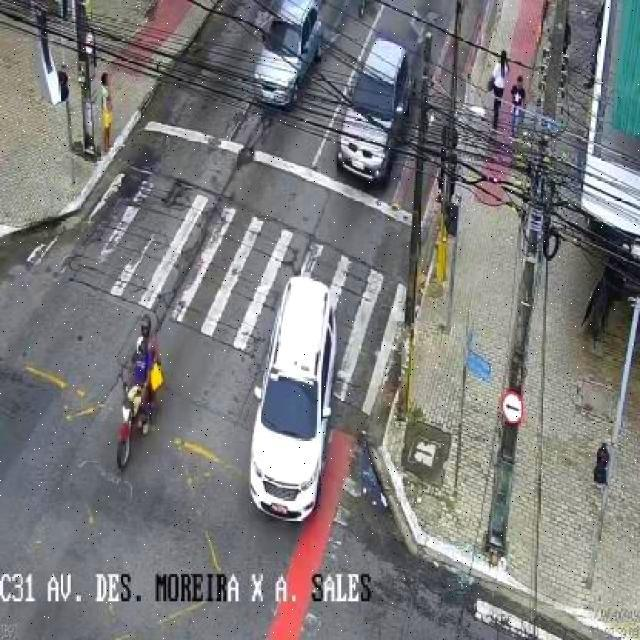Car: (248, 278, 340, 525), (336, 38, 414, 187), (249, 0, 324, 108)
Cycle: (110, 316, 164, 470)
